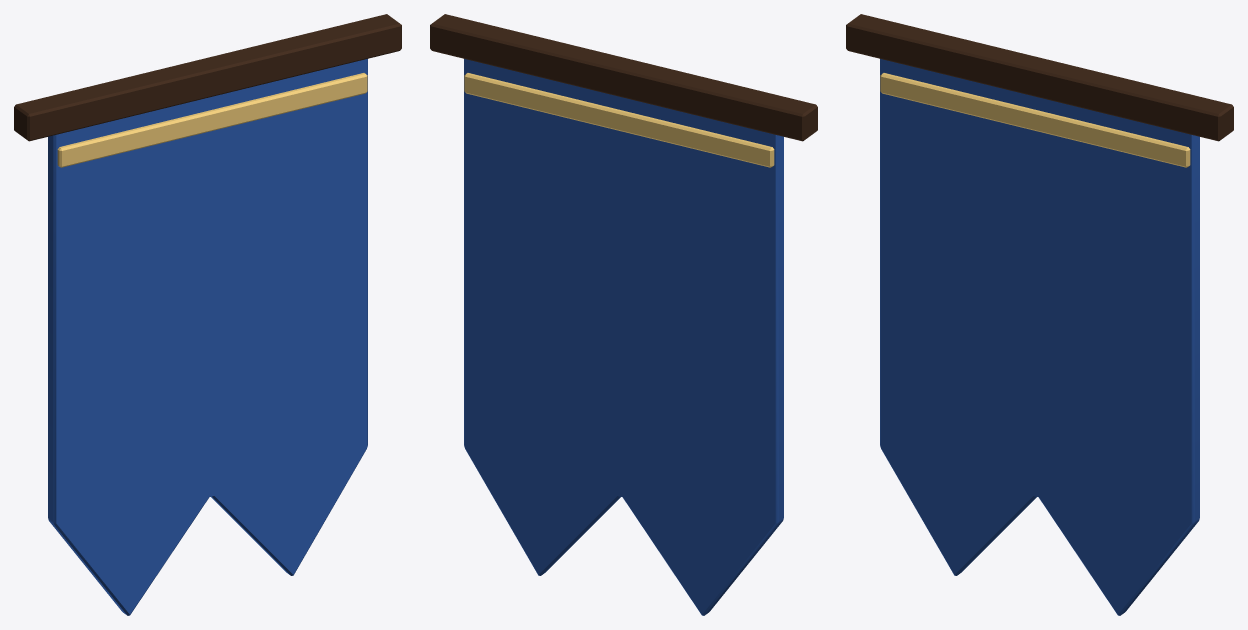
3 renders of one model, left to right at view 1: azimuth 30°, elevation 25°; view 2: azimuth 150°, elevation 25°; view 3: azimuth 330°, elevation 25°, orthographic.
Parts seen in each view (by area): view 1: PT-team, PT-wood_dark, PT-team_trim; view 2: PT-team, PT-wood_dark, PT-team_trim; view 3: PT-team, PT-wood_dark, PT-team_trim.
Part boxes in pixels (box(x1,y1,x2,y2)): PT-team: box(48, 59, 367, 615); PT-wood_dark: box(14, 14, 401, 141); PT-team_trim: box(57, 73, 367, 167); PT-team: box(464, 59, 783, 615); PT-wood_dark: box(430, 14, 817, 141); PT-team_trim: box(464, 73, 774, 167); PT-team: box(880, 59, 1199, 615); PT-wood_dark: box(846, 14, 1233, 141); PT-team_trim: box(880, 73, 1190, 167).
Size of the model in its own units: 1 by 1.35 by 0.07.
